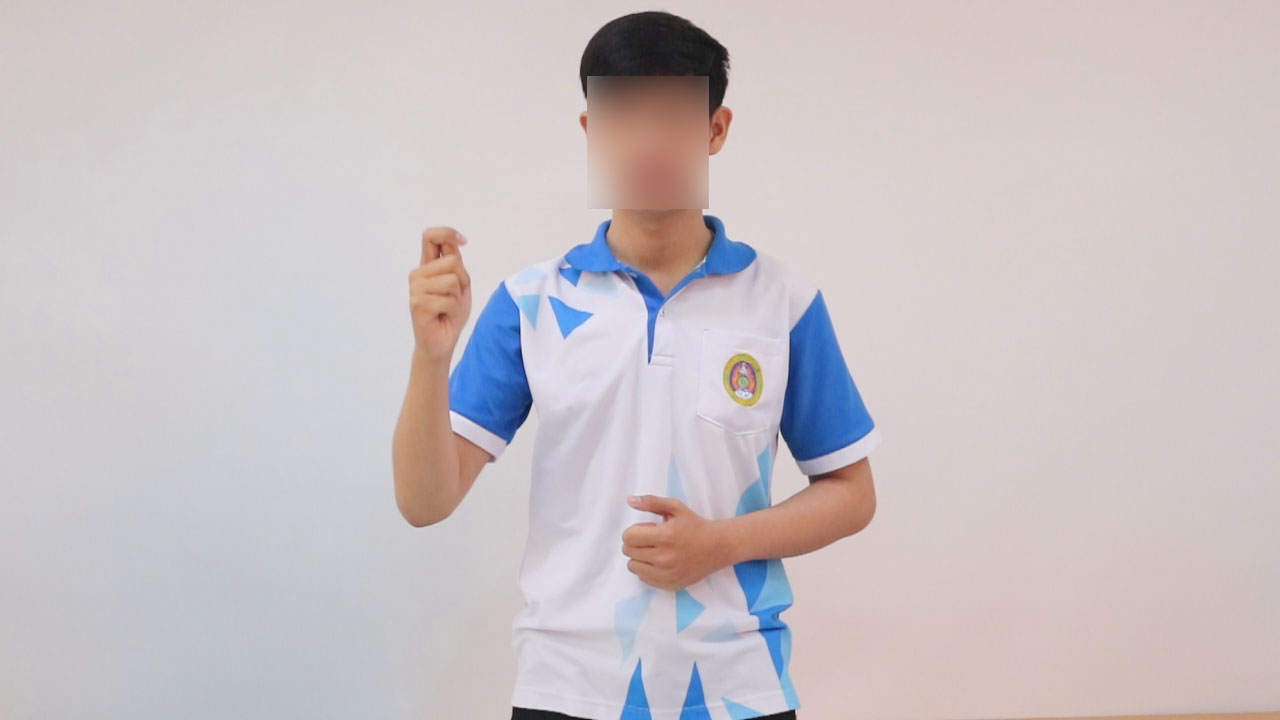or: (400, 224, 482, 365)
